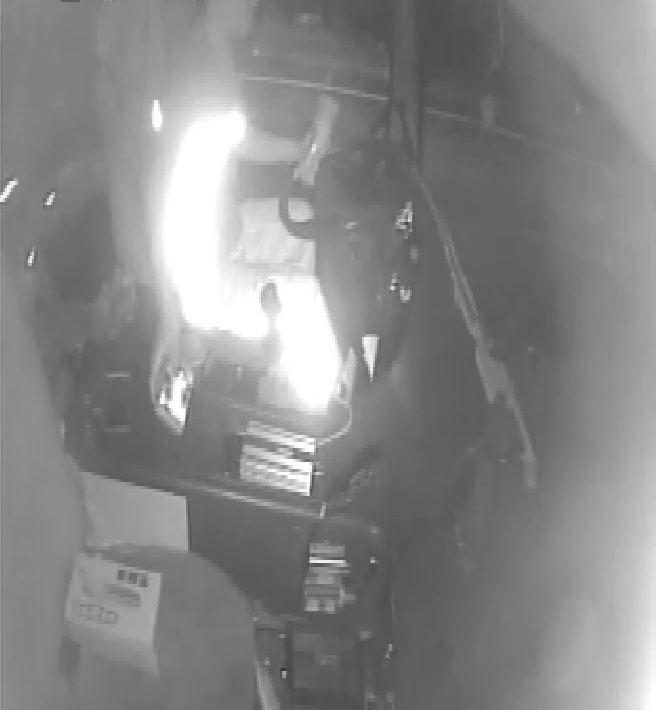cellphone: (152, 348, 193, 434)
